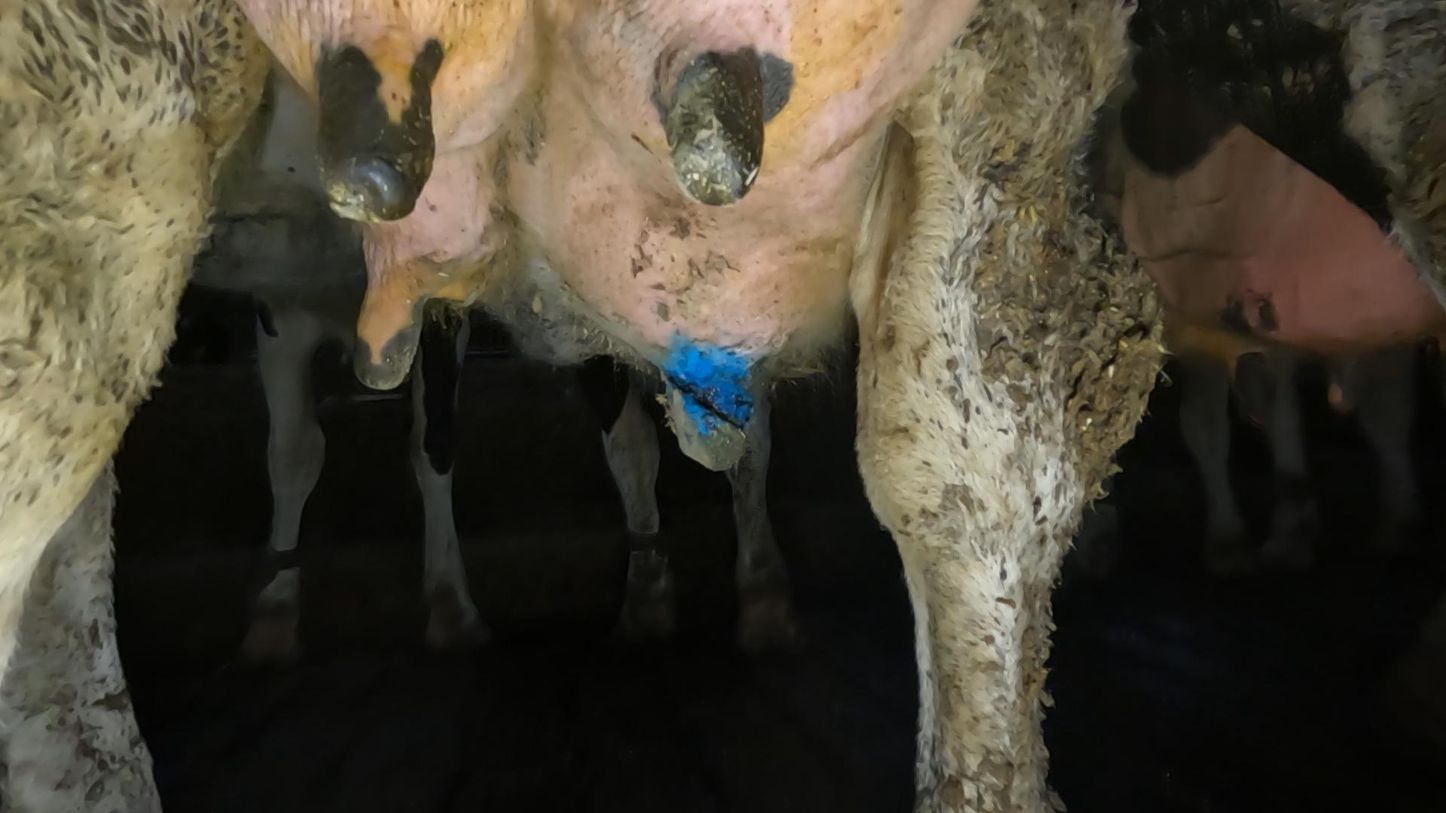Zitze: (297, 20, 442, 241), (636, 32, 776, 221), (651, 320, 759, 476), (339, 279, 450, 396)
